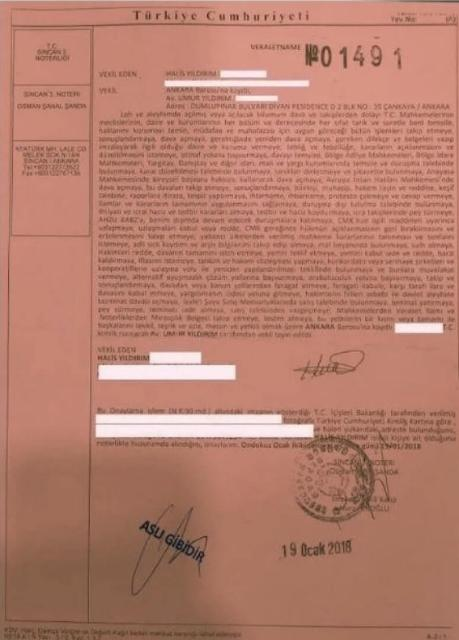stamp: (292, 434, 374, 524)
